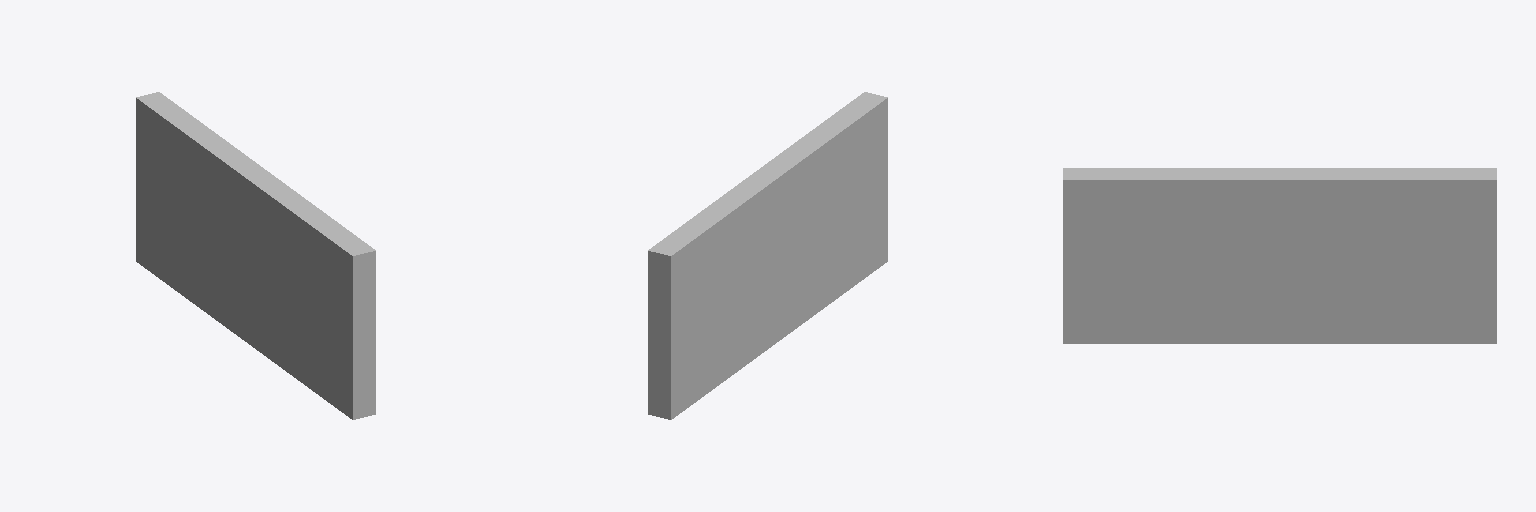
The model's file is 3dstestsobj.obj.
The picture shows the model from 3 angles: view 1: azimuth 30°, elevation 25°; view 2: azimuth 150°, elevation 25°; view 3: azimuth 270°, elevation 25°; orthographic projection.
Parts seen in each view (by area): view 1: Box096; view 2: Box096; view 3: Box096.
Part boxes in pixels (left/top/right/bottom): Box096: left=136, top=92, right=375, bottom=419; Box096: left=648, top=92, right=887, bottom=419; Box096: left=1063, top=168, right=1496, bottom=343.
Size of the model in its own units: 0.5906 by 3.94 by 9.45.